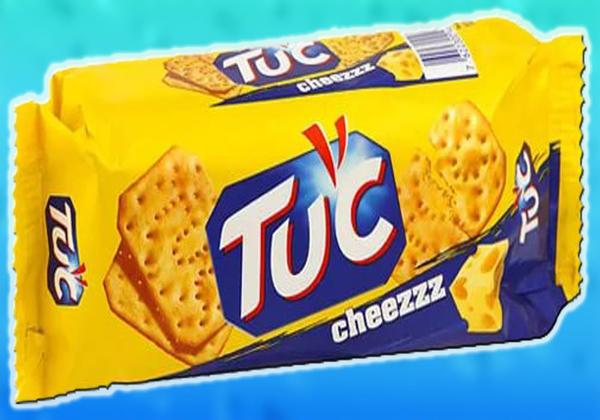crackers tuc: (23, 16, 578, 386)
